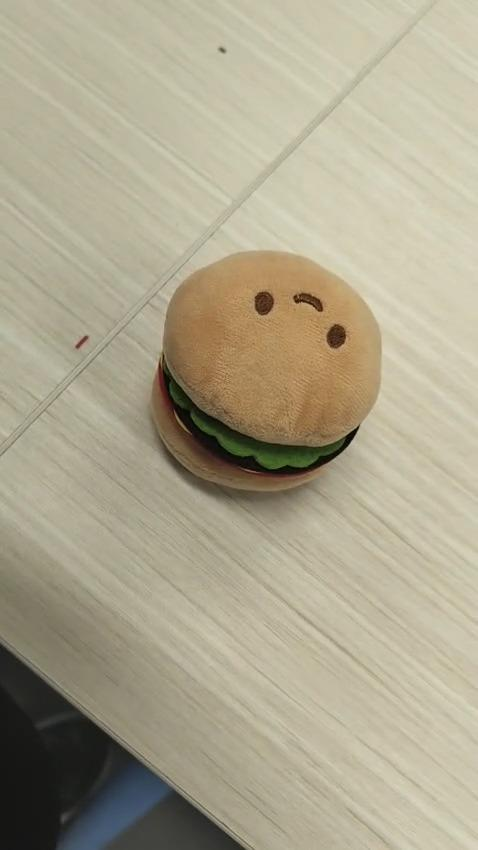hamburger: (148, 248, 382, 493)
